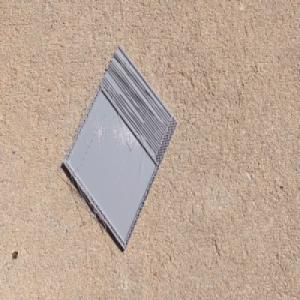PlasticPart: (62, 43, 178, 252)
